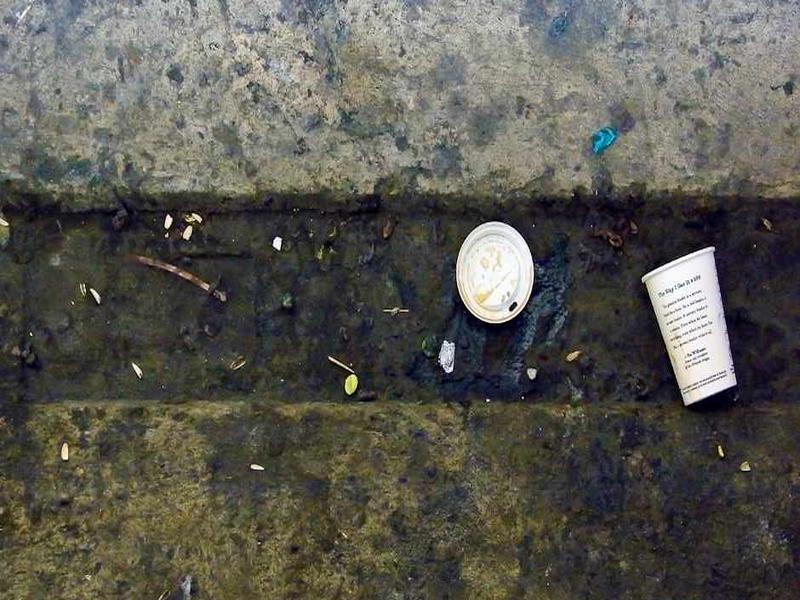cup: (637, 244, 741, 407)
